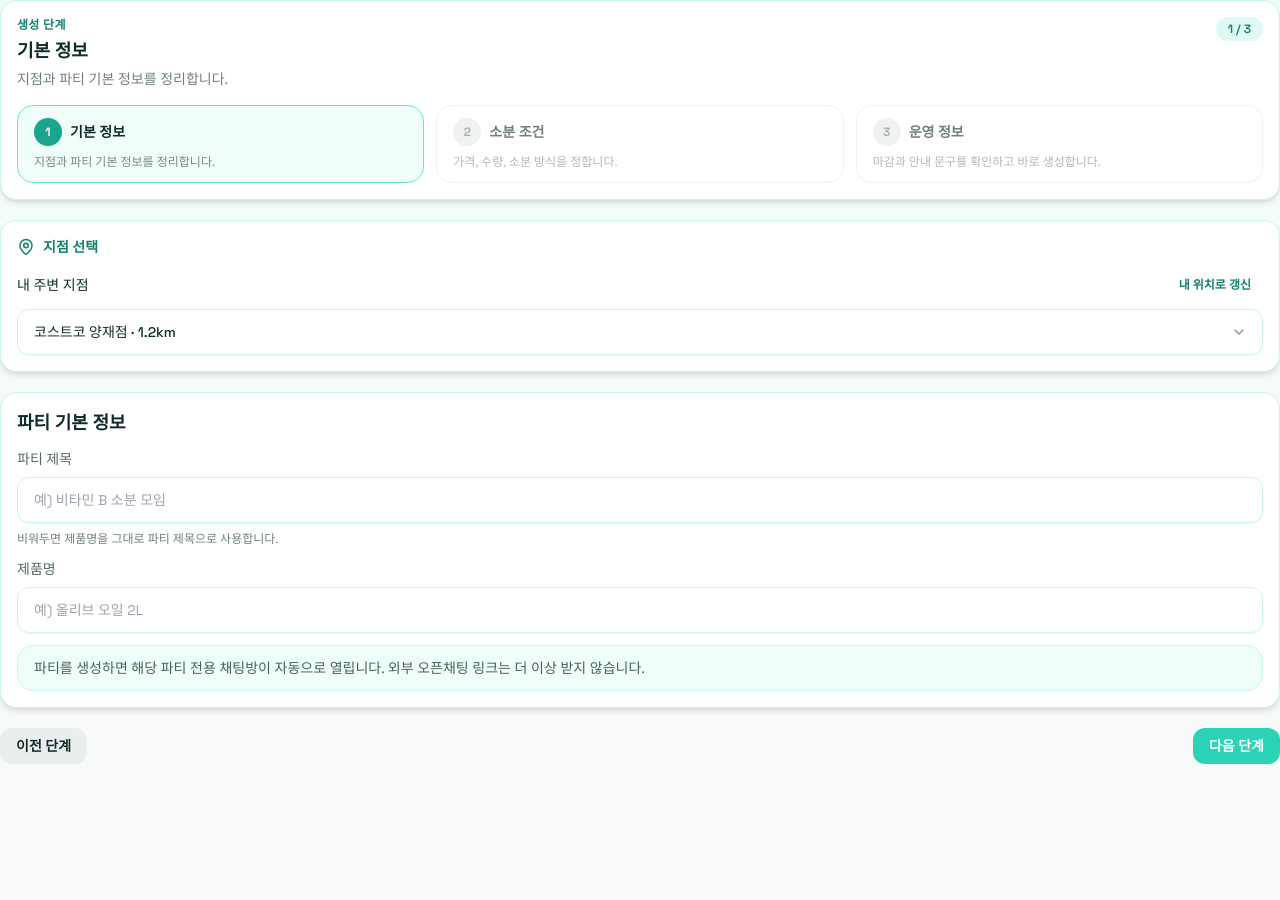
Scenario: CreateParty › 입력값에_따라_참여_조건_미리보기를_갱신한다
Expected: the heading "파티 기본 정보" is shown, [17,411,126,434]
Type "올리브 오일 2L" into the field named "제품명" at [640, 610], box [17,587,1263,633]
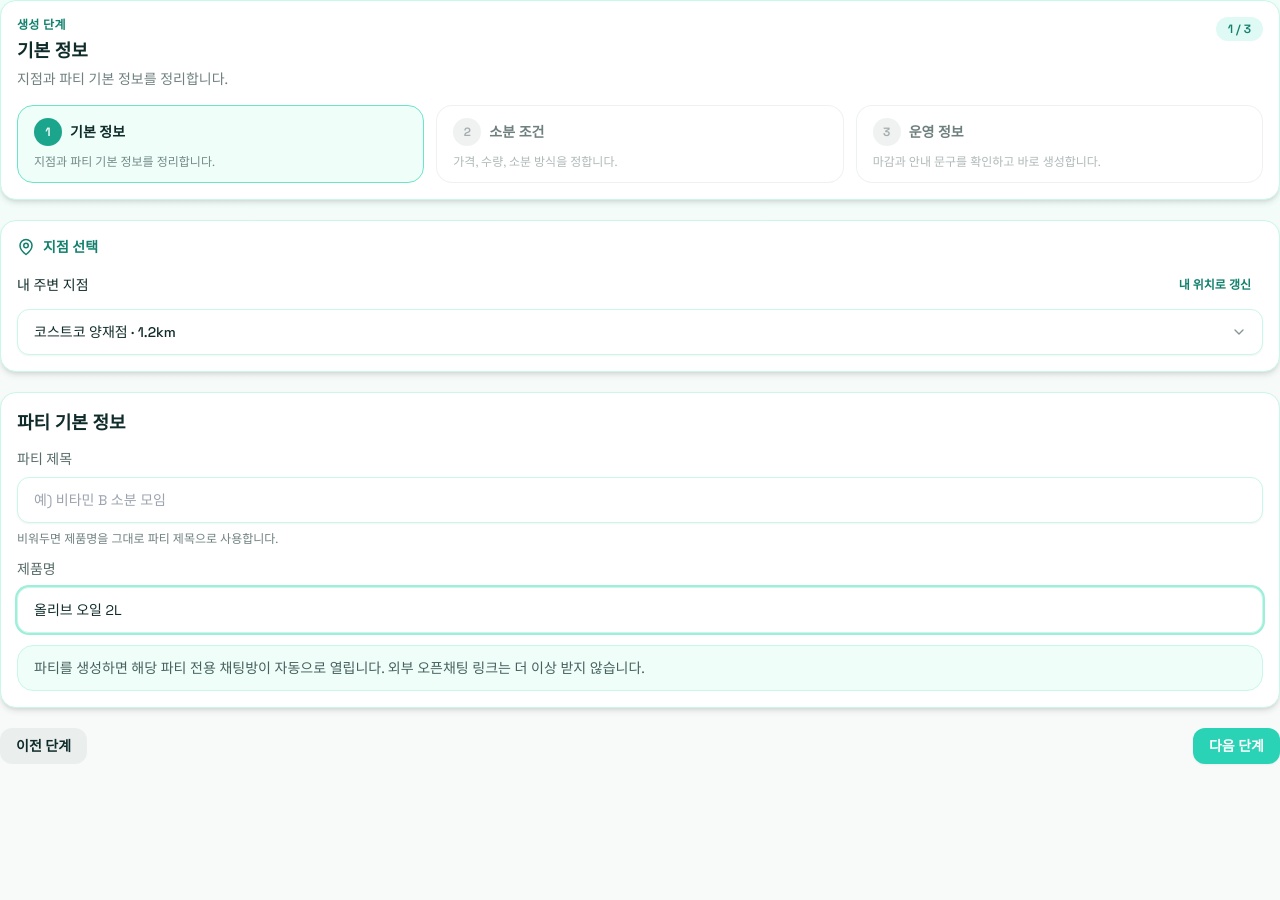
Click the button "다음 단계" at [1236, 746], box [1193,728,1279,764]
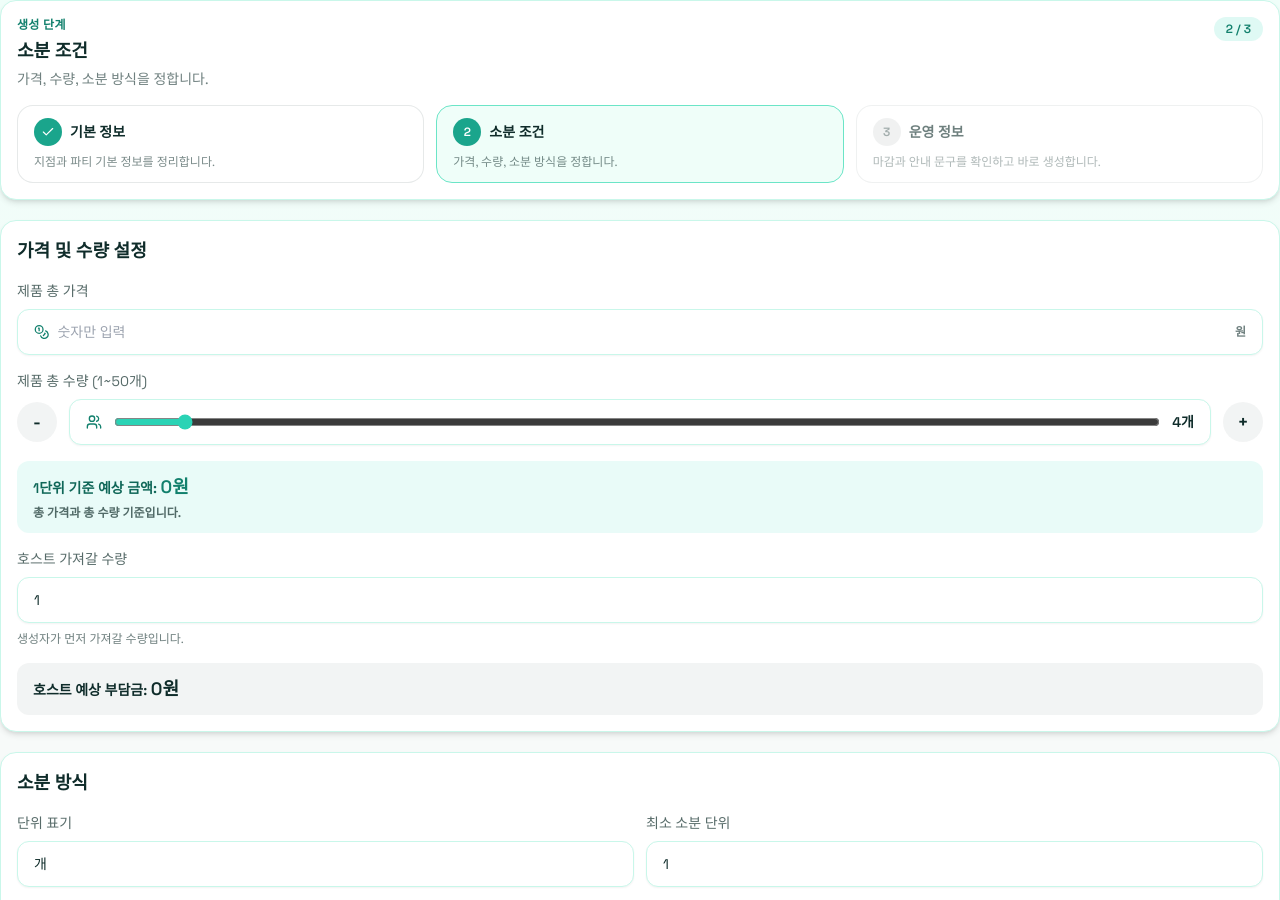
Type "25000" into the number field named "제품 총 가격" at [642, 332], box [57,322,1227,342]
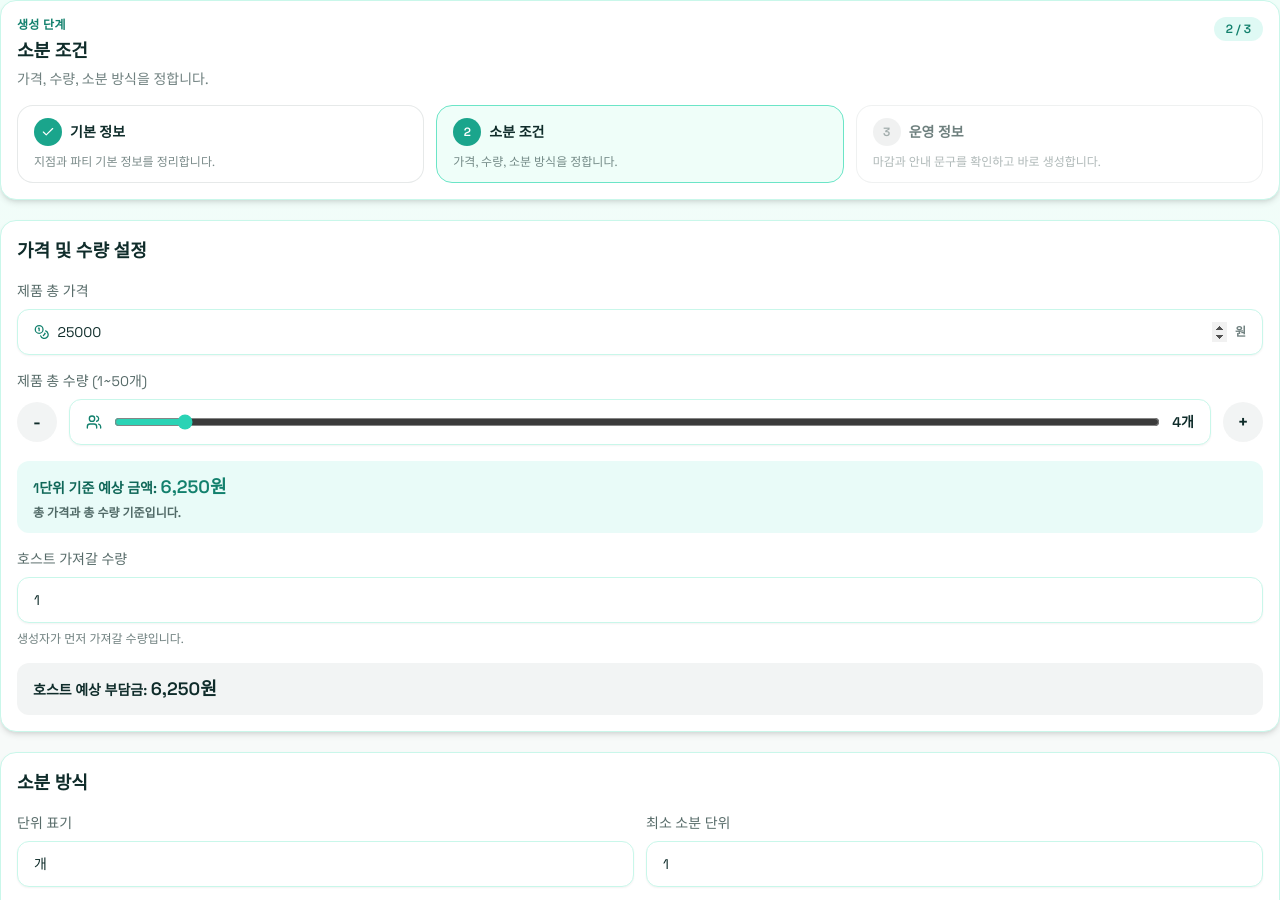
Replace the text in the number field named "호스트 가져갈 수량" with "3" at [640, 600], box [17,577,1263,623]
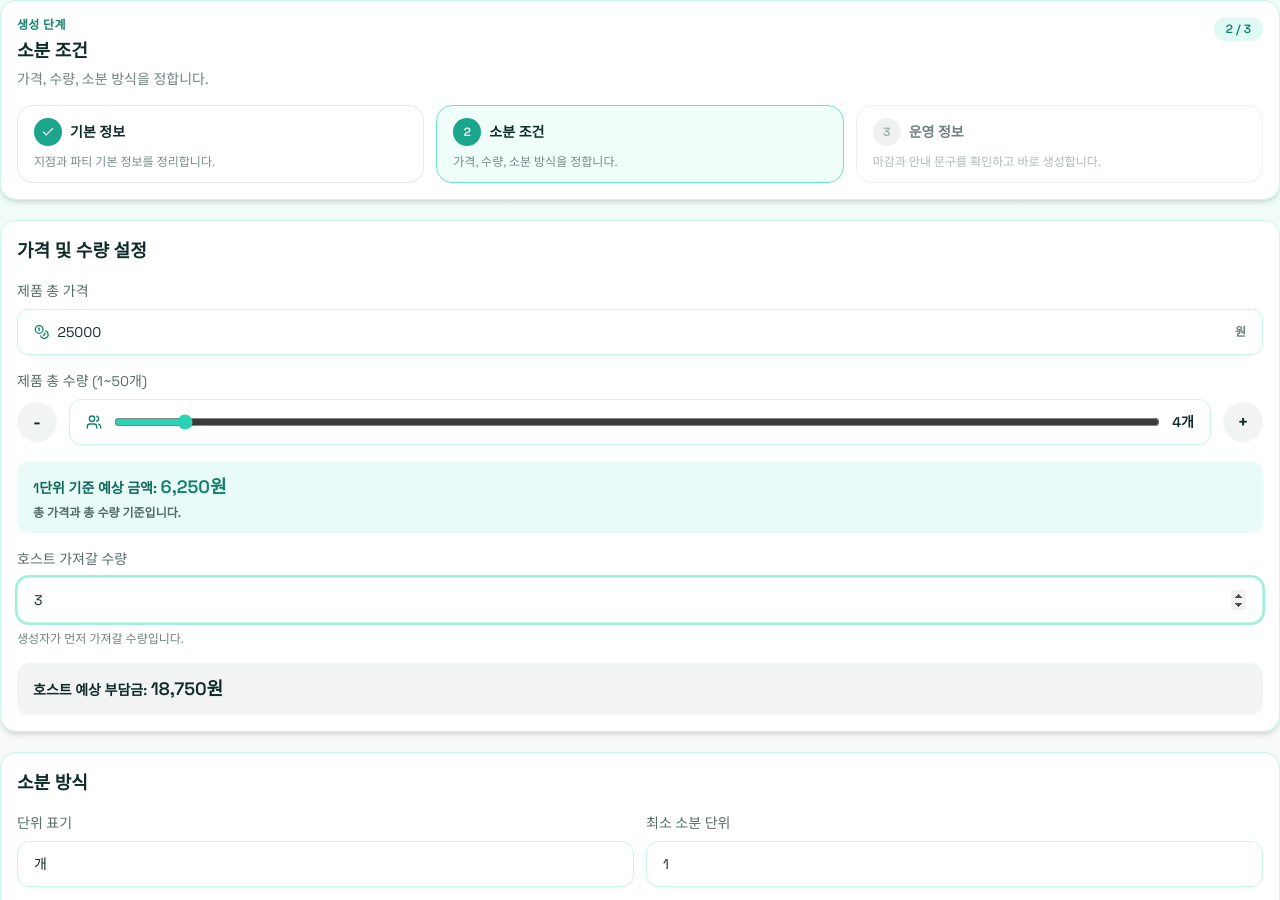
Replace the text in the number field named "최소 소분 단위" with "2" at [954, 864], box [646,841,1263,887]
(page scrolled)
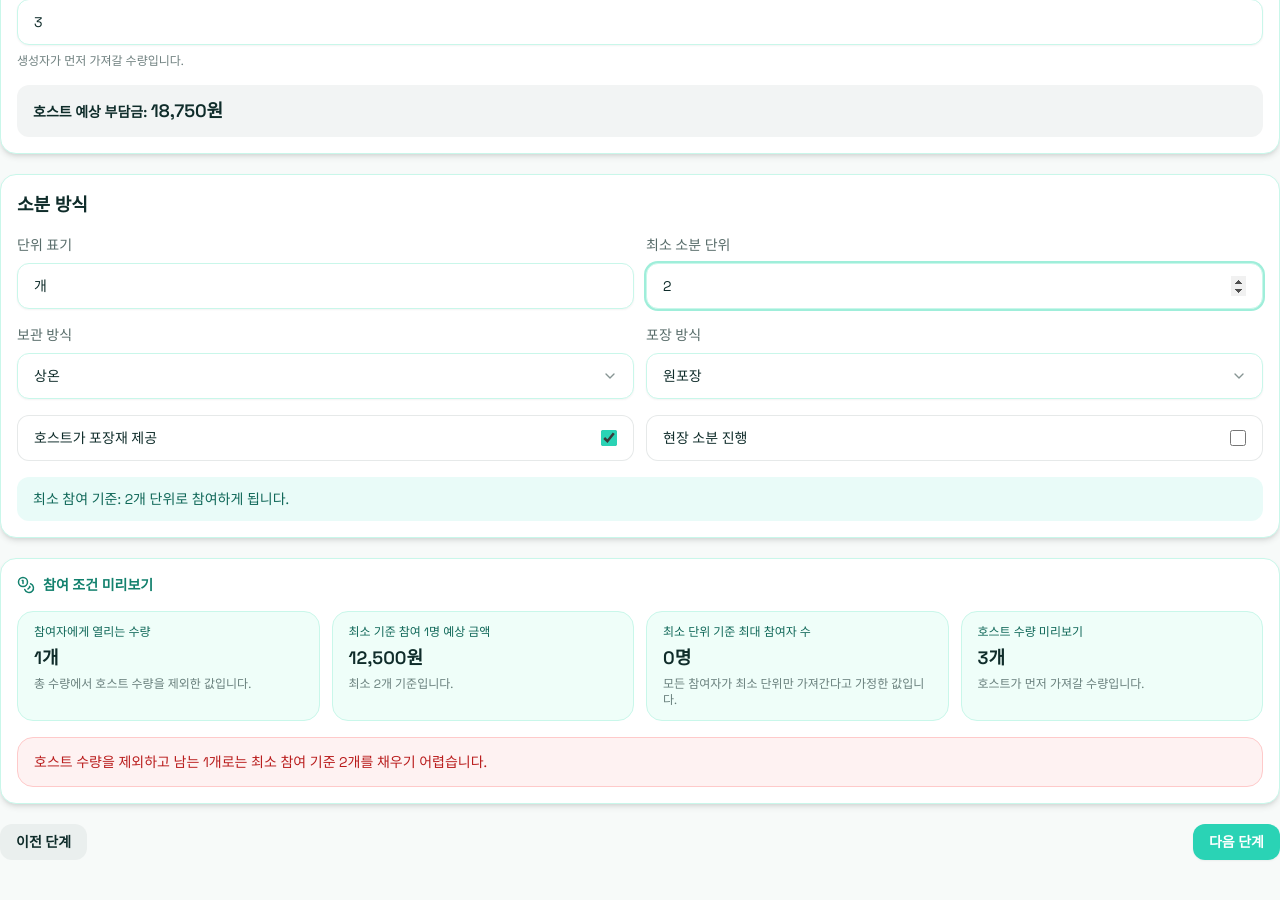
Now the text "참여자에게 열리는 수량" is shown, box [34,624,151,640]
Now the text "1개" is shown, box [34,646,59,669]
Now the text "12,500원" is shown, box [348,646,423,669]
